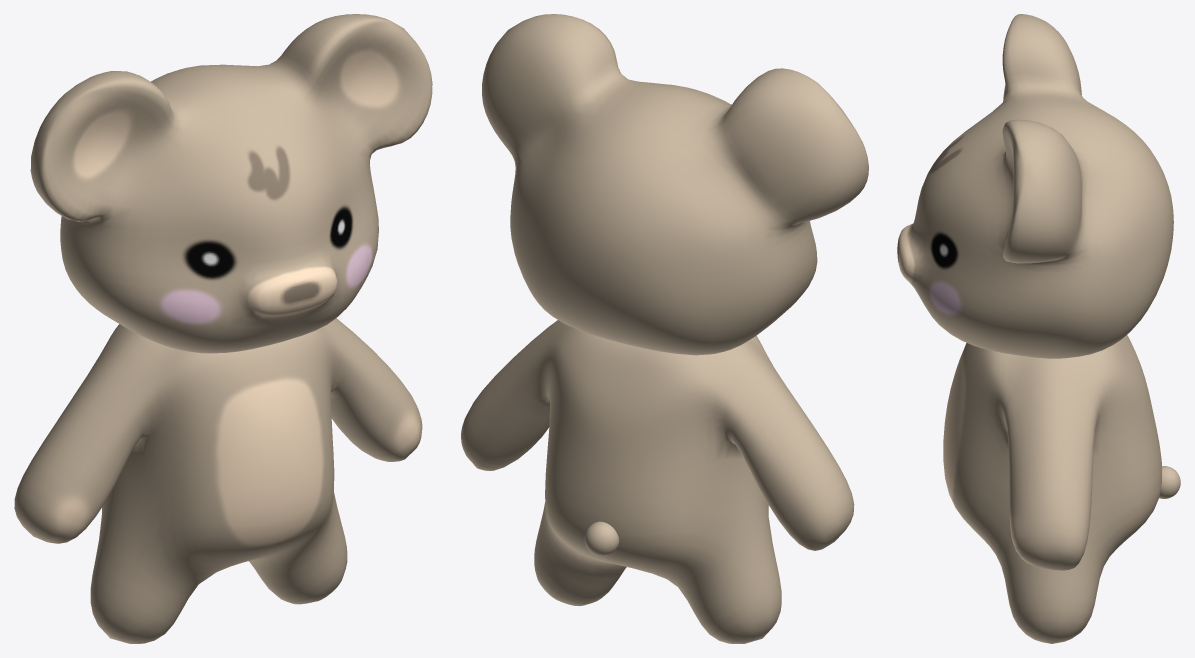
The model's file is cubbear_apose.fbx.
3 renders of one model, left to right at view 1: azimuth 30°, elevation 25°; view 2: azimuth 150°, elevation 25°; view 3: azimuth 270°, elevation 25°, orthographic. The views are drawn at different scales.
Parts seen in each view (by area): view 1: head 2.004, Roundcube.005; view 2: head 2.004, Roundcube.005, Roundcube.006; view 3: head 2.004, Roundcube.005, Roundcube.006.
Part boxes in pixels (x1,y1,x2,y2): head 2.004: (30, 14, 432, 353); Roundcube.005: (14, 318, 422, 643); head 2.004: (482, 14, 868, 355); Roundcube.005: (461, 320, 854, 643); Roundcube.006: (584, 521, 619, 556); head 2.004: (897, 14, 1173, 358); Roundcube.005: (943, 335, 1161, 643); Roundcube.006: (1159, 466, 1180, 498).
Size of the model in its own units: 87.98 by 125 by 60.55.
2 materials, 2 textured.
